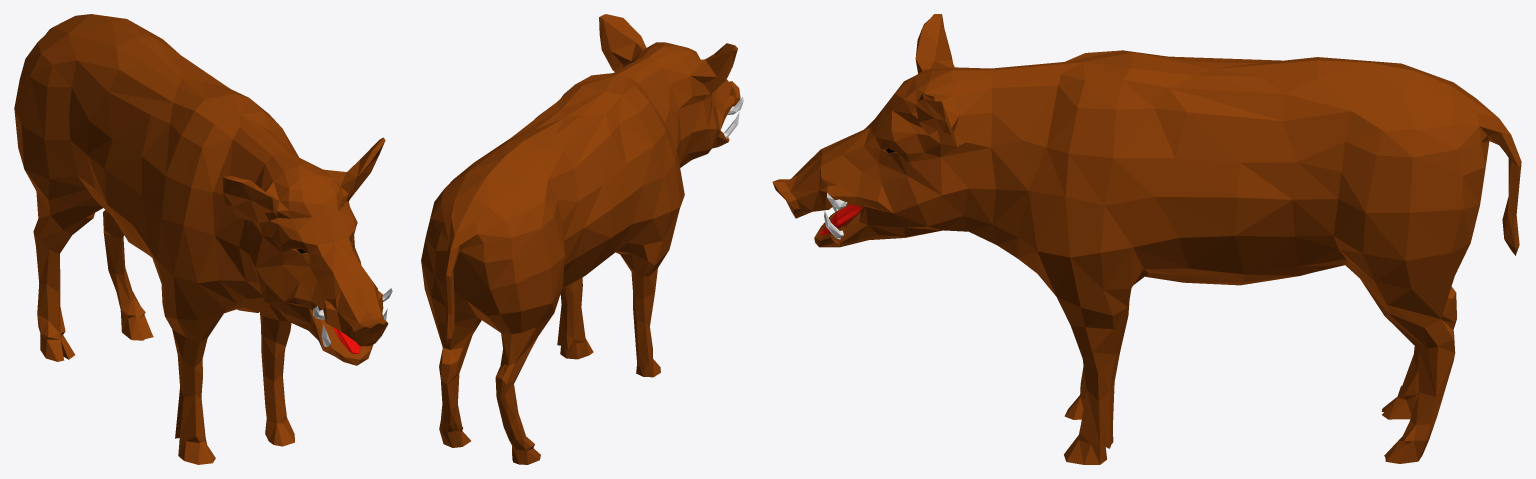
Rendered from ExportedBlenderFBXFile.fbx.
The picture shows the model from 3 angles, left to right: view 1: azimuth 30°, elevation 25°; view 2: azimuth 150°, elevation 25°; view 3: azimuth 270°, elevation 25°; orthographic projection. The views are drawn at different scales.
Parts seen in each view (by area): view 1: Wild Boar; view 2: Wild Boar; view 3: Wild Boar.
Part boxes in pixels (x1,y1,x2,y2): Wild Boar: (14, 14, 392, 464); Wild Boar: (421, 14, 743, 464); Wild Boar: (772, 14, 1521, 464).
Size of the model in its own units: 0.4758 by 0.9625 by 1.72.
